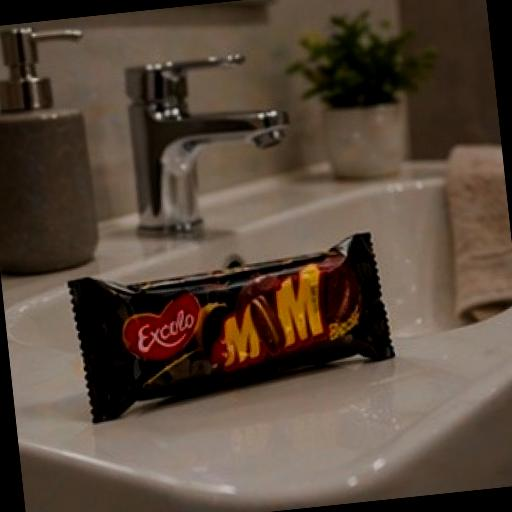MOMO: (27, 184, 434, 449)
